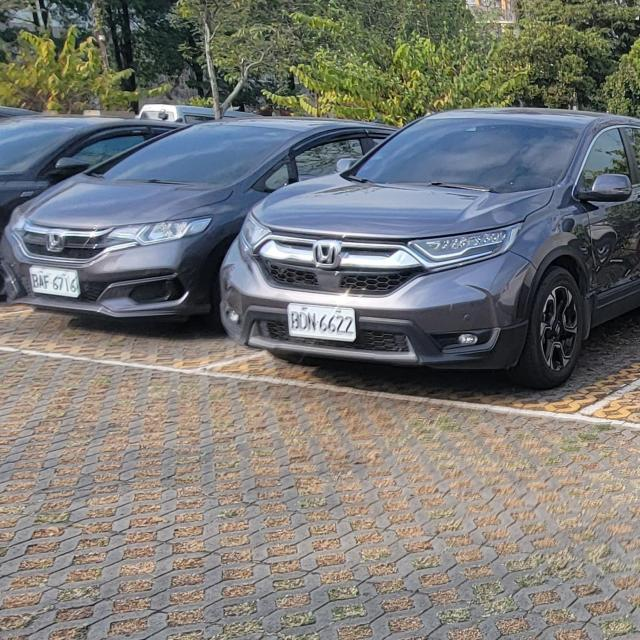W: (286, 298, 356, 344), (28, 264, 81, 298)
